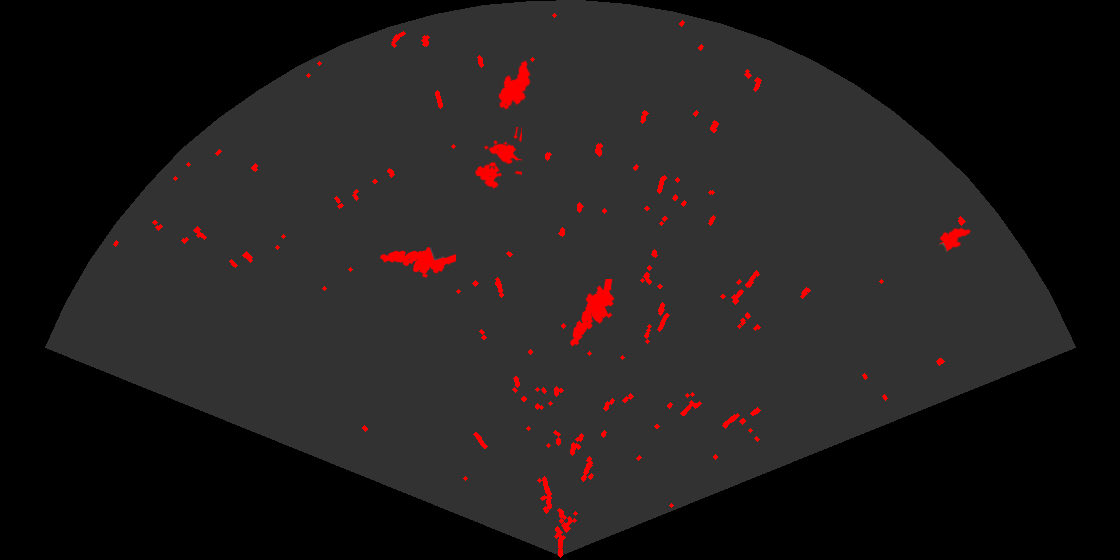AUV: (497, 59, 532, 112), (937, 226, 972, 253)
cage: (473, 127, 522, 190)
frogman: (569, 279, 616, 348), (378, 245, 456, 279)
